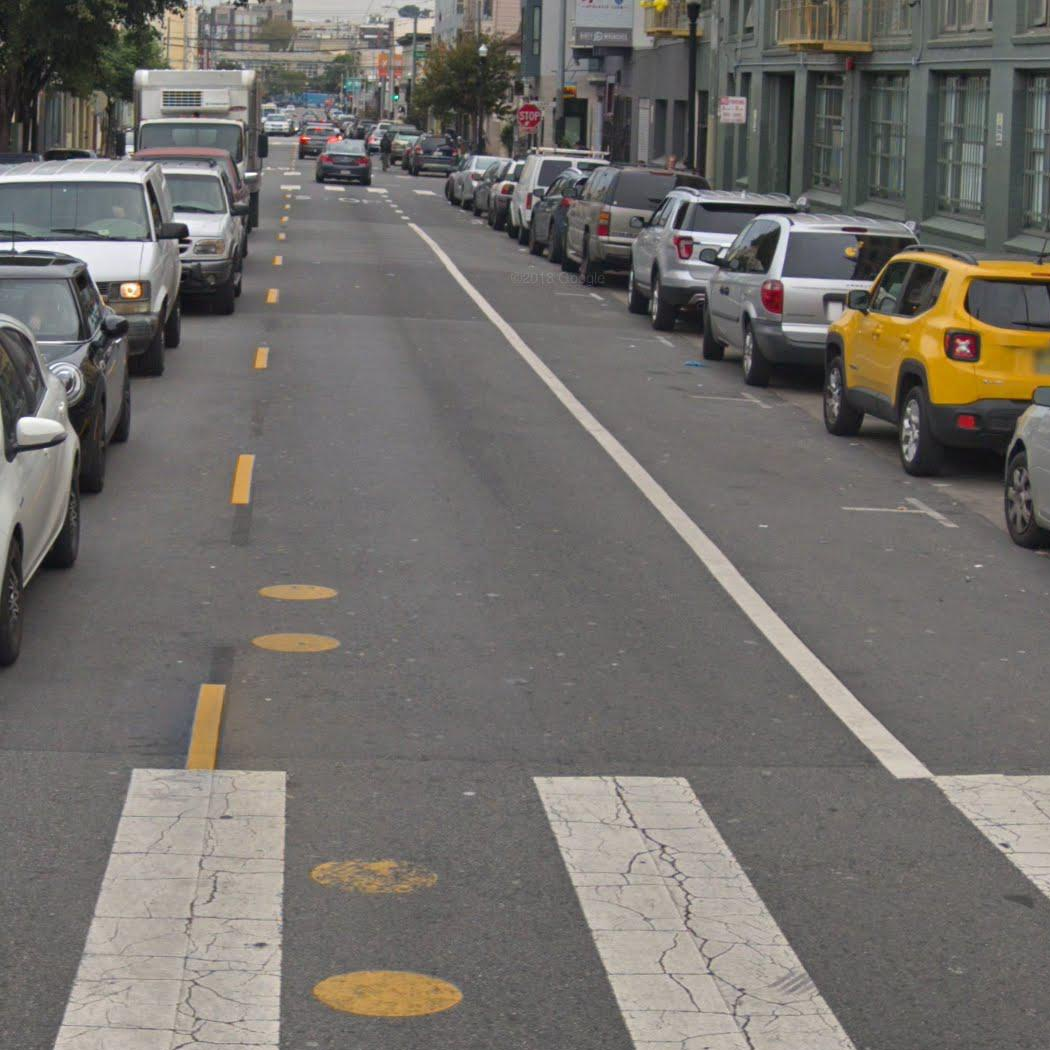No Parking: (717, 94, 748, 126)
